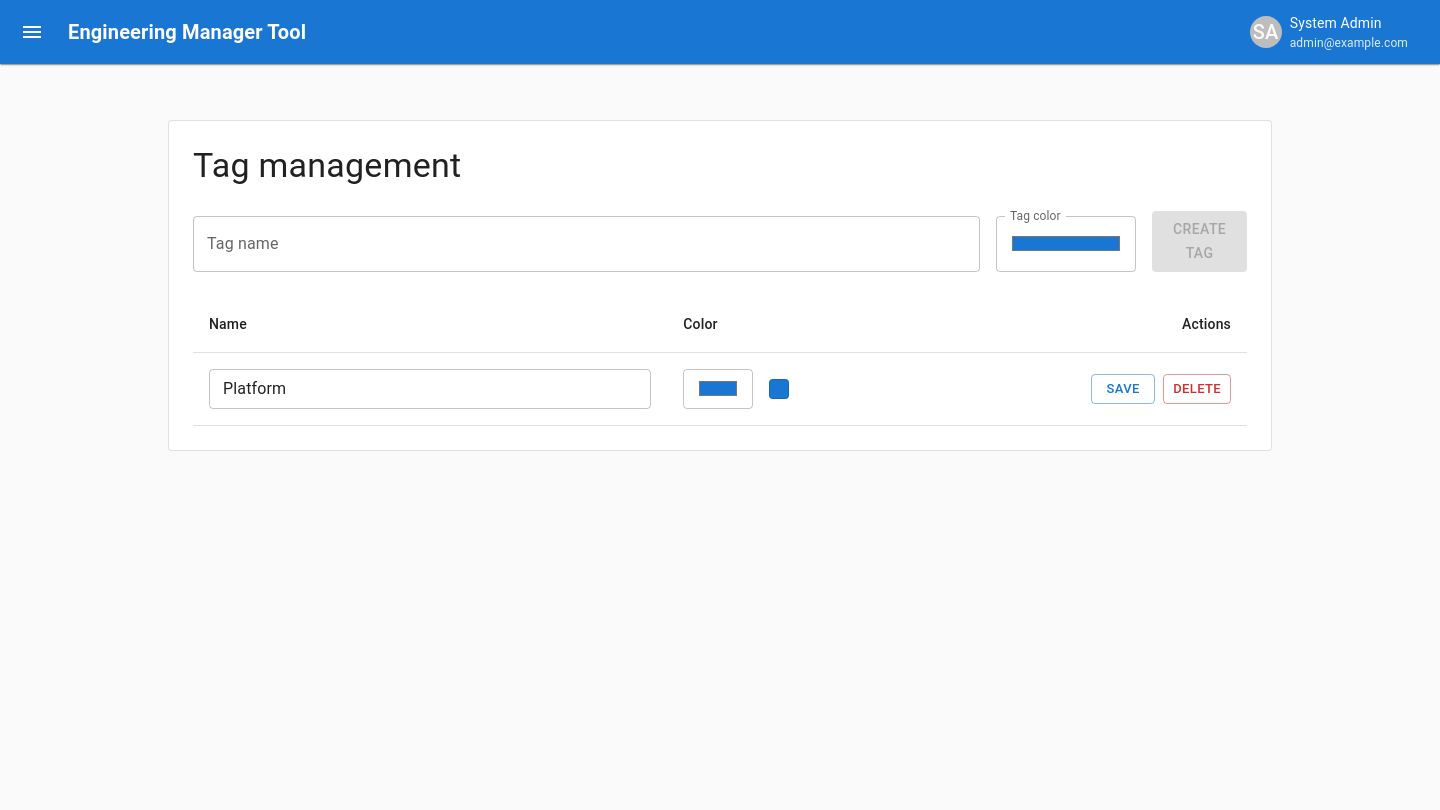
it: US4 delete tag flow › opens confirmation and deletes tag
Click the button "Delete". click: [1197, 389]
box: [1163,374,1231,404]
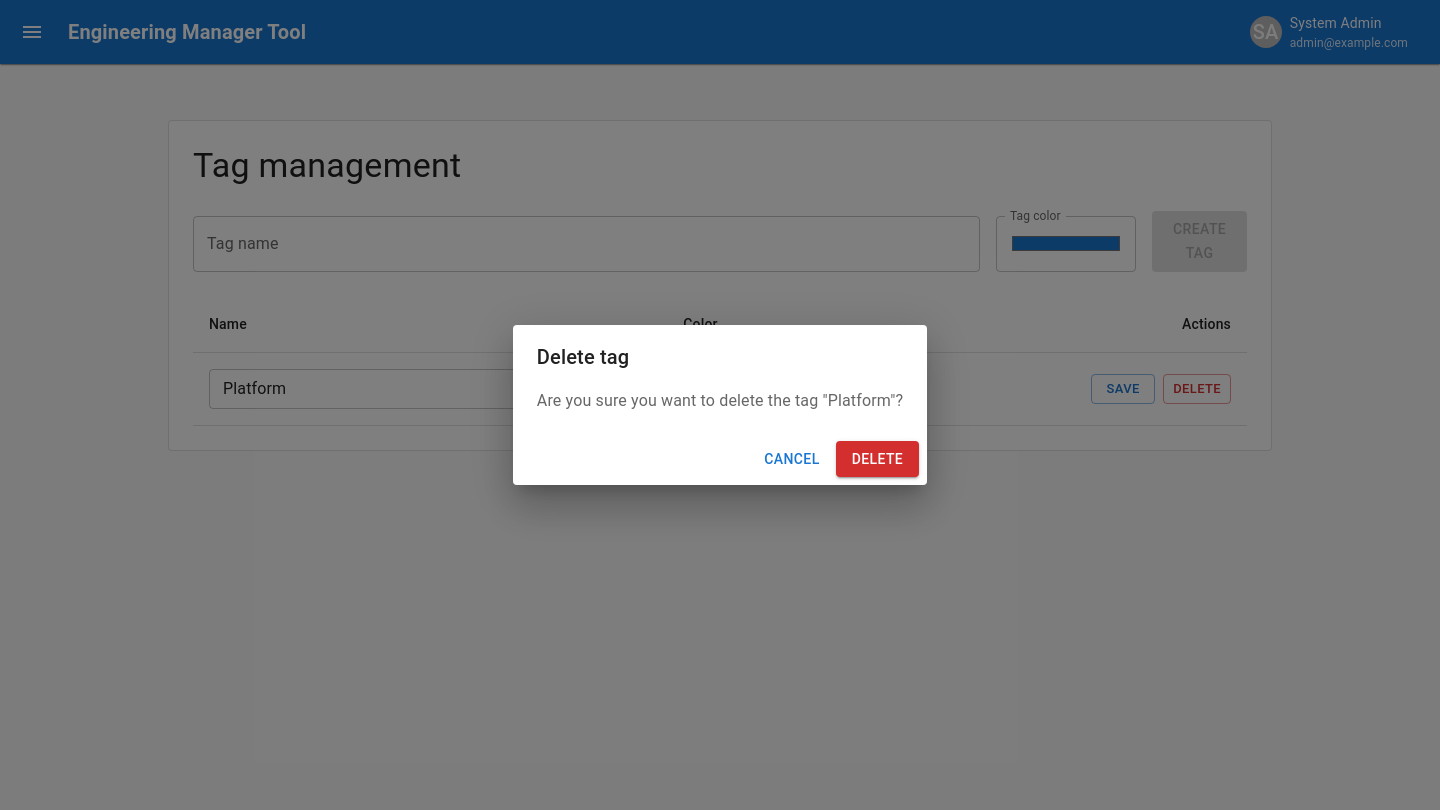
Click the button "Delete". click: [877, 459]
box: [836,441,919,477]
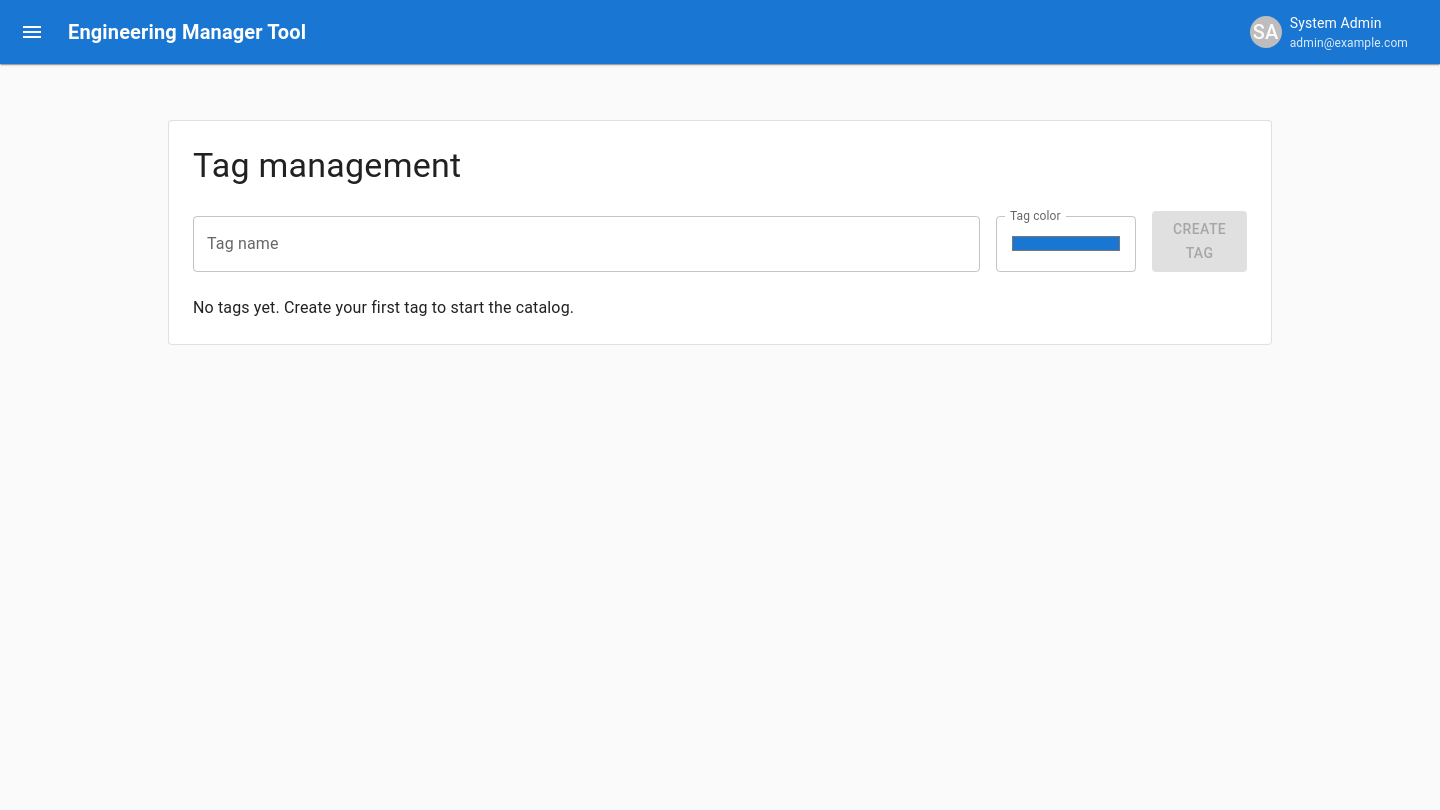
Now the text "No tags yet. Create your first tag to start the catalog." is shown, box [193,298,574,317]
